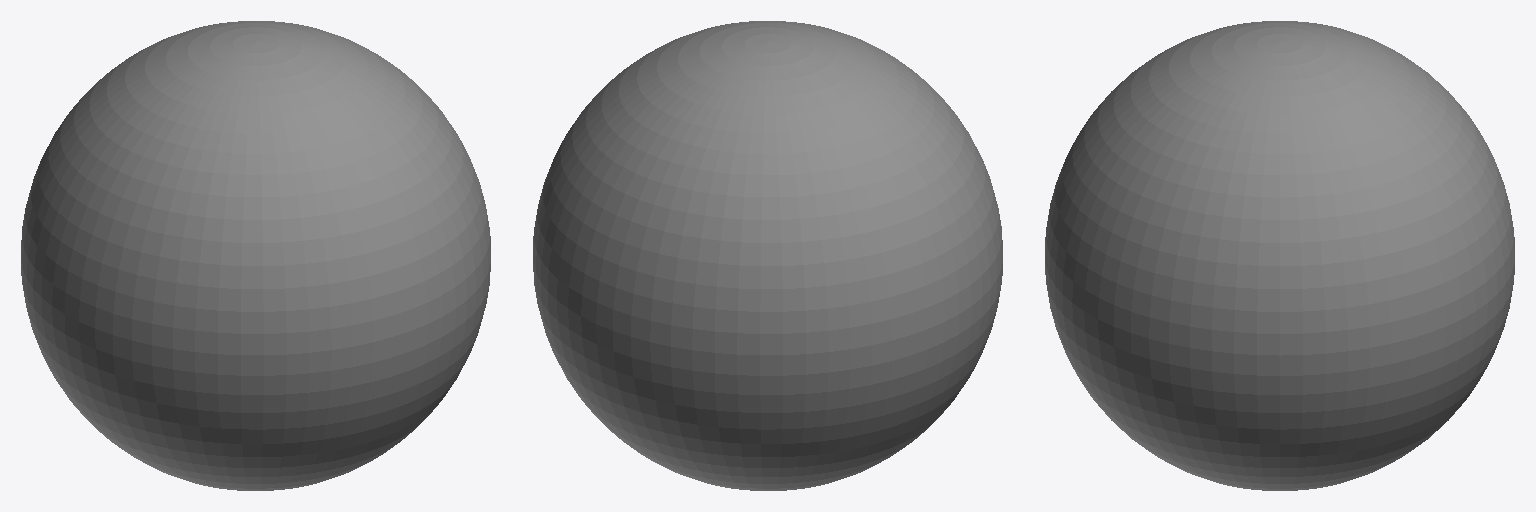
The model's file is earth.obj.
3 views of the same model, side by side, from view 1: azimuth 30°, elevation 25°; view 2: azimuth 150°, elevation 25°; view 3: azimuth 270°, elevation 25° (orthographic).
Visible parts, largest first — view 1: Sphere002; view 2: Sphere002; view 3: Sphere002.
Boxes of the visible parts, <box> form: Sphere002: <box>21,21,490,490</box>; Sphere002: <box>533,21,1002,490</box>; Sphere002: <box>1045,21,1514,490</box>.
Size of the model in its own units: 702 by 702 by 702.